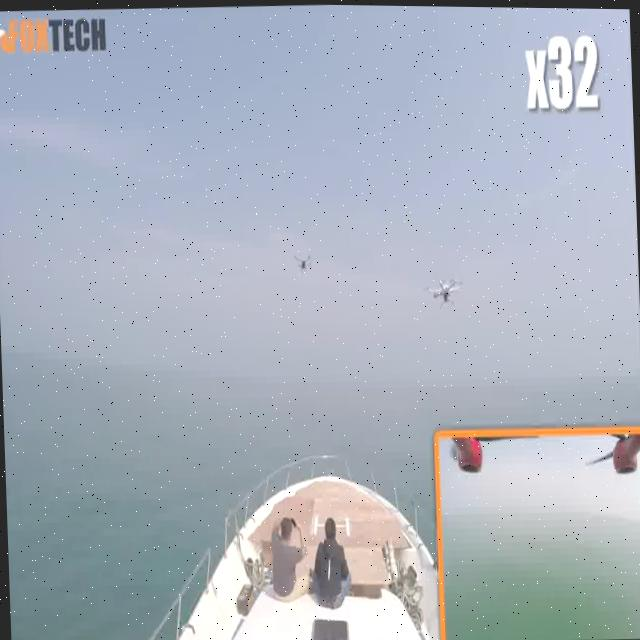drone: (7, 507, 640, 640)
